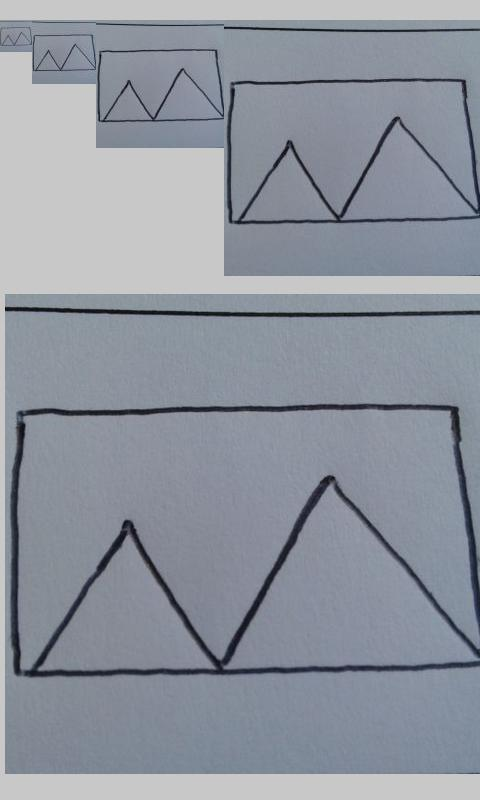image_view: (8, 403, 479, 685), (227, 77, 480, 226), (98, 47, 226, 125), (33, 34, 96, 72), (1, 27, 32, 47)
